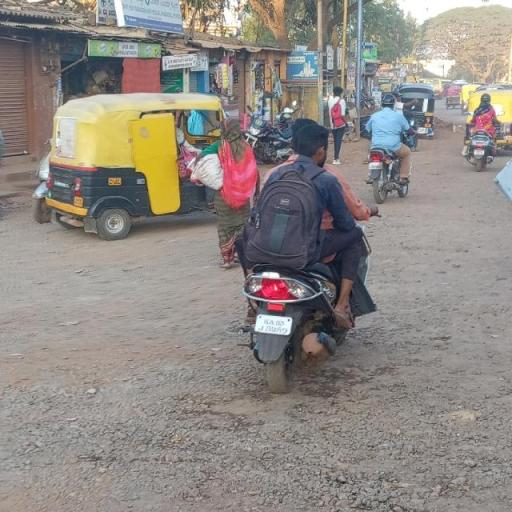bike: (216, 112, 389, 396)
numberplate: (254, 312, 300, 341)
withouthelmet: (297, 127, 328, 166)
